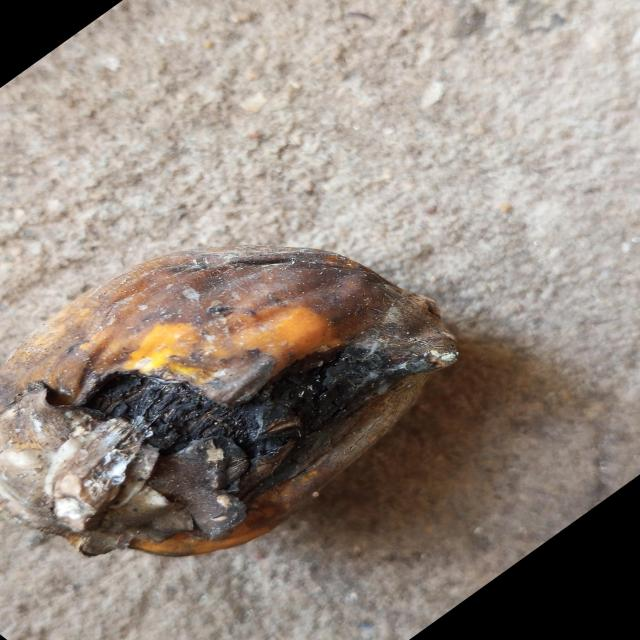damaged: (0, 248, 459, 561)
